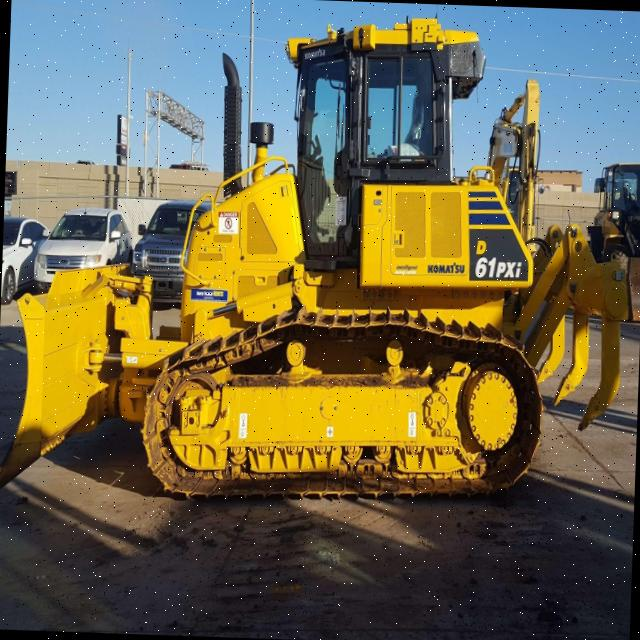Bulldozer: (0, 1, 613, 530)
